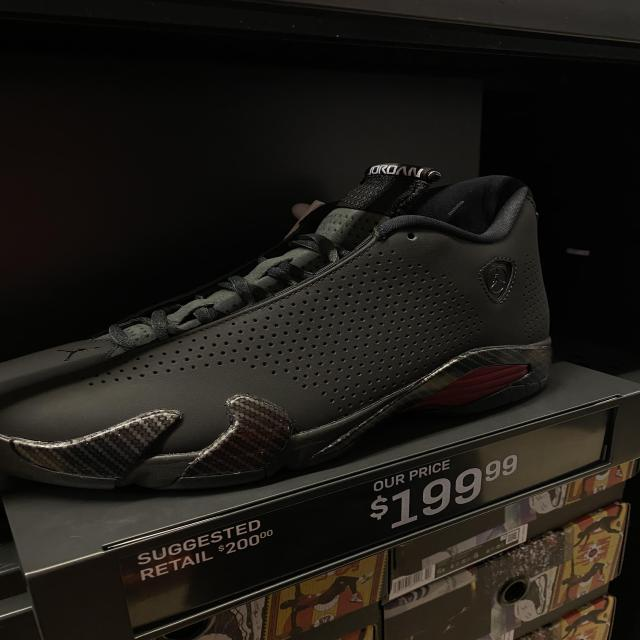shoe: (0, 146, 572, 502)
